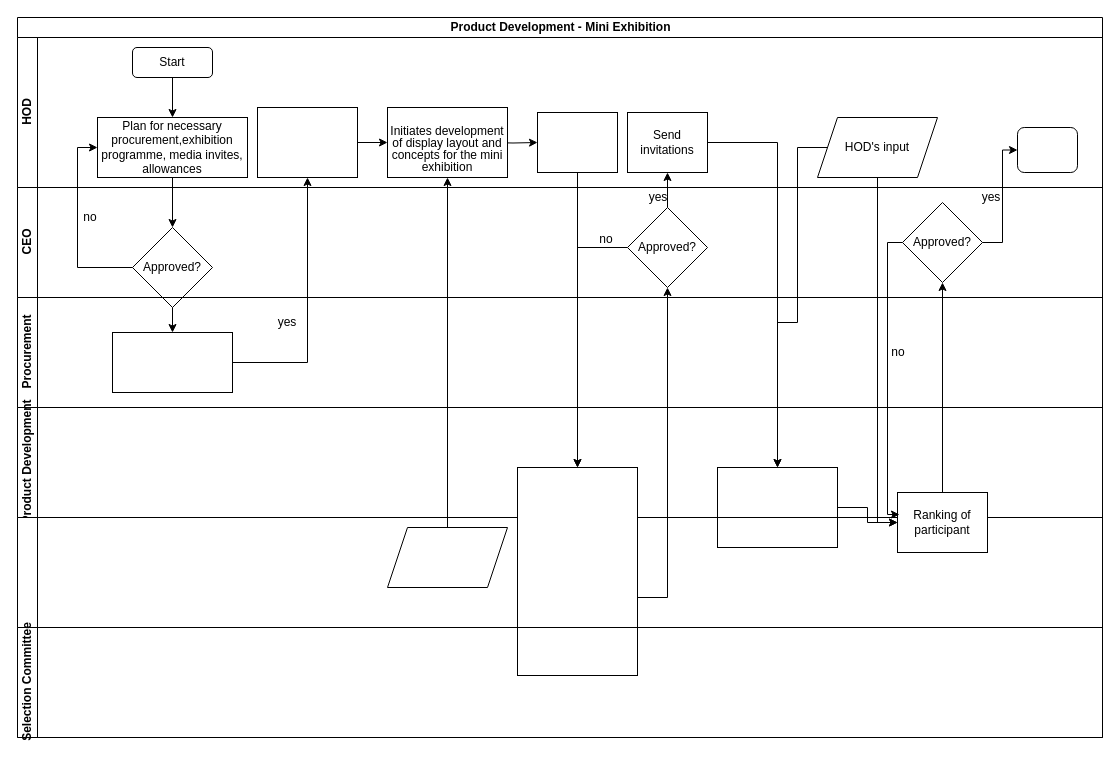
Image size: 1120x759. Some labels were removed from this diagram. Each missing label, with the box of its shape:
Branding Unit: (16, 516, 1102, 628)
Develop selection criteria: (536, 112, 618, 172)
End: (1016, 126, 1078, 172)
Perform exhibition and select successful companies/products: (716, 466, 838, 548)
Selection of participants: (516, 466, 638, 676)
Start recruitment of selection committee (SC): (256, 106, 358, 178)
Undertake necessary procurement: (112, 332, 232, 392)
Unit's input: (386, 526, 508, 588)
